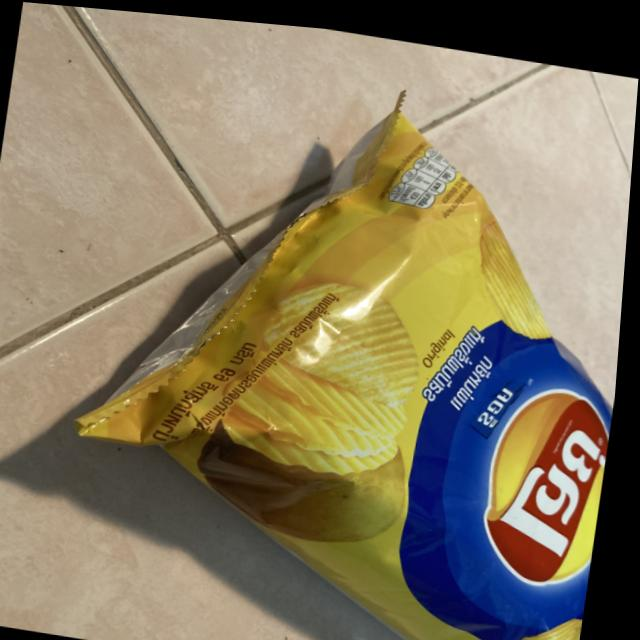LayYellow: (86, 67, 637, 640)
